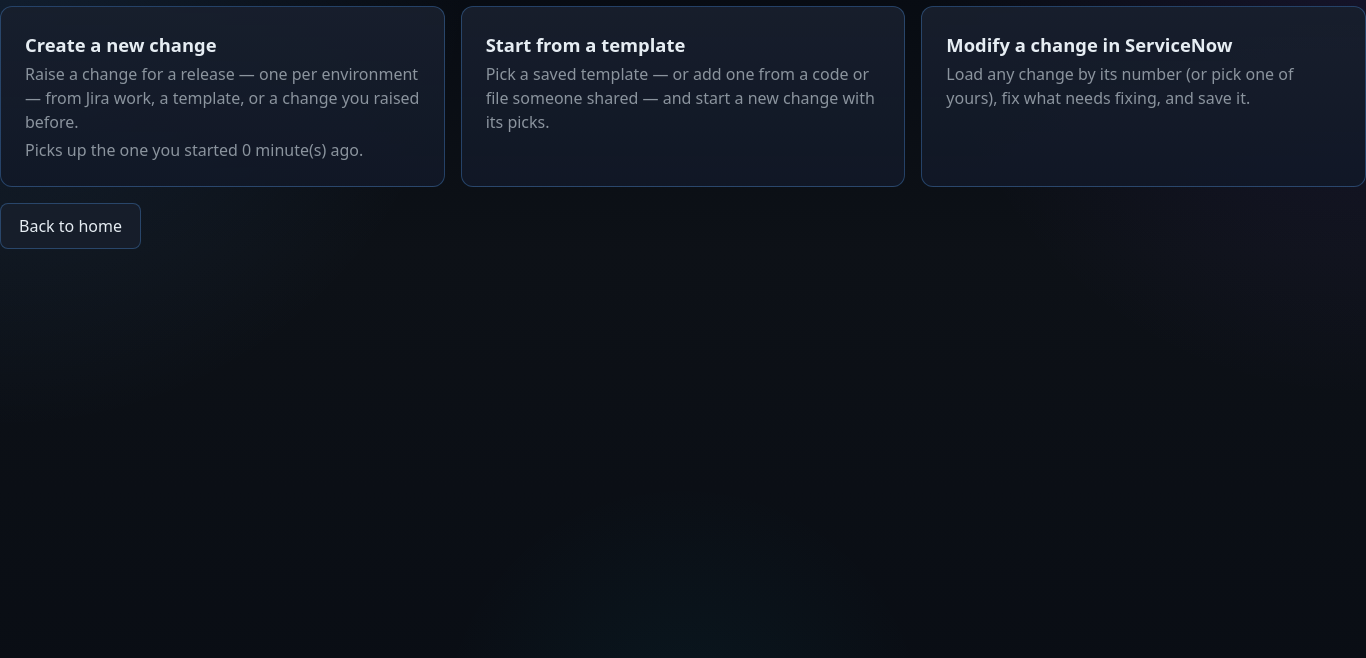
Scenario: ChangeWizard — templates › saves the picks as a template on the last step — never the writing — and confirms it from storage
Step 1. Click the button "Create a new change" → x=222, y=97, box x1=0 y1=6 x2=445 y2=187
(page scrolled)
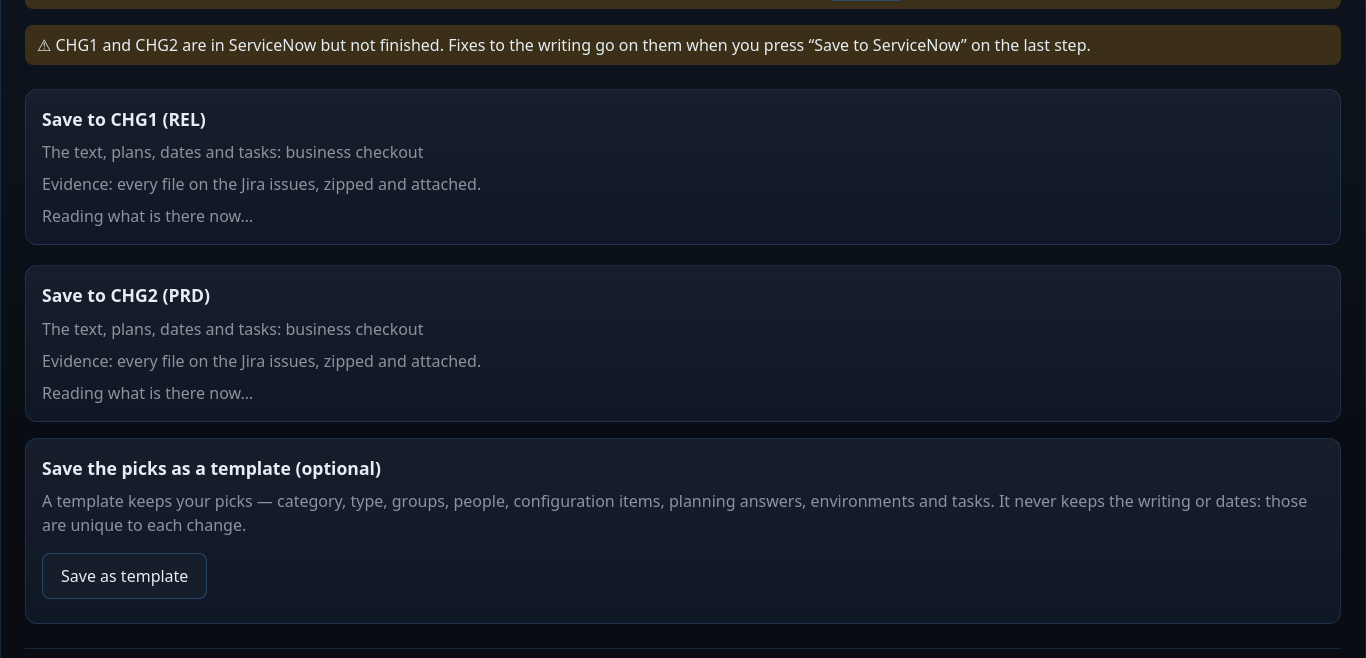
Step 2. Click the button "Save as template" → x=125, y=576, box x1=42 y1=553 x2=207 y2=599
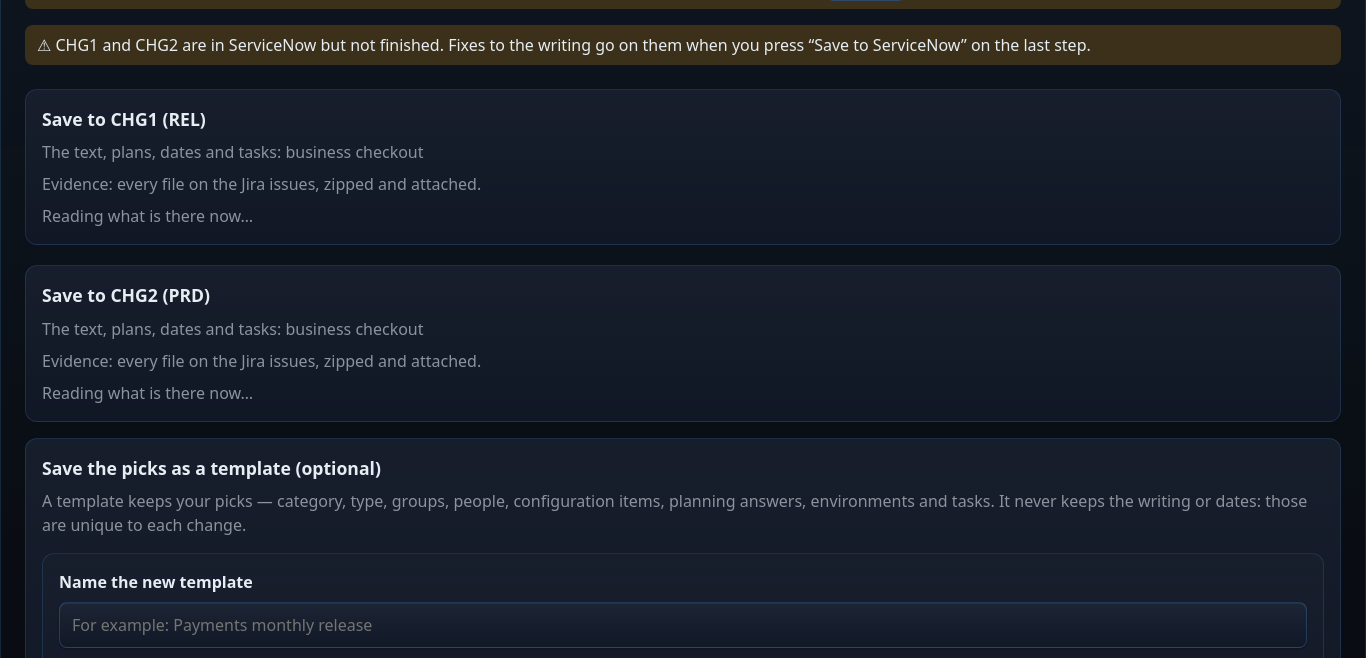
Step 3. Type "Payments release" into the field labelled "Name the new template" → x=683, y=625, box x1=59 y1=602 x2=1307 y2=648
(page scrolled)
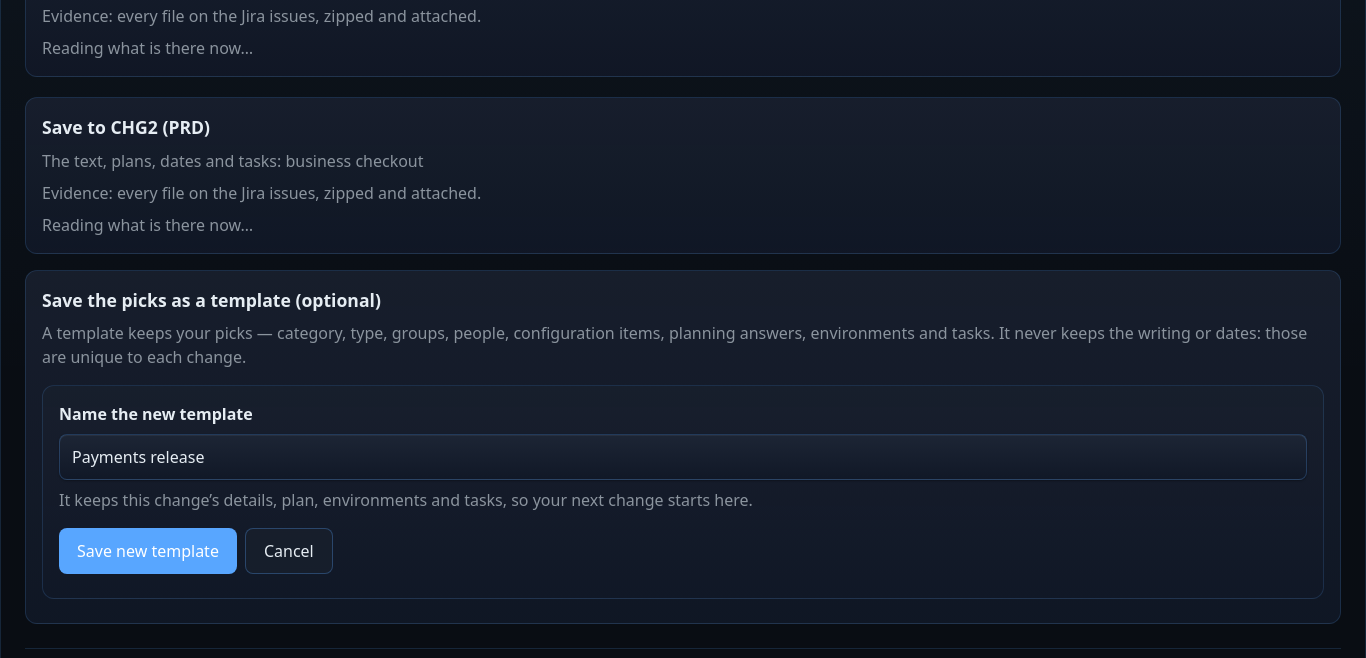
Step 4. Click the button "Save new template" → x=148, y=551, box x1=59 y1=528 x2=237 y2=574
(page scrolled)
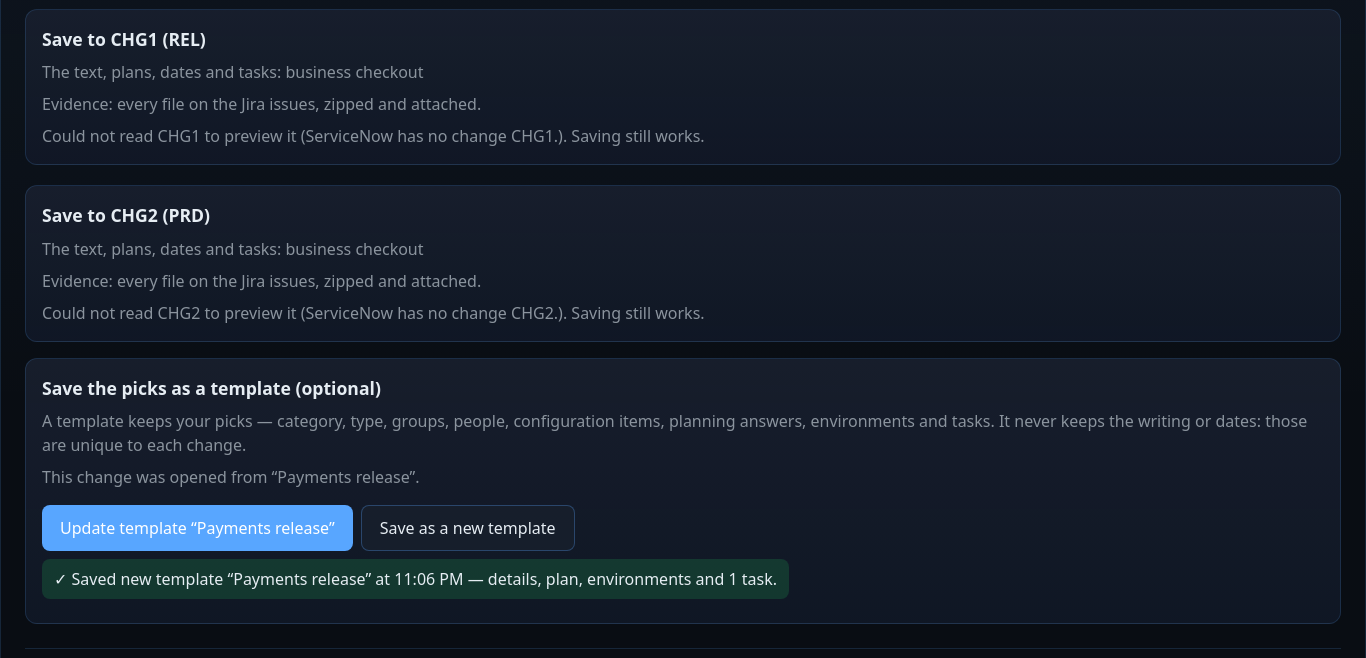
Expected: the text "✓ Saved new template “Payments release”" is shown, x1=54 y1=568 x2=777 y2=590
Expected: the button "Update template “Payments release”" is shown, x1=42 y1=505 x2=353 y2=551
